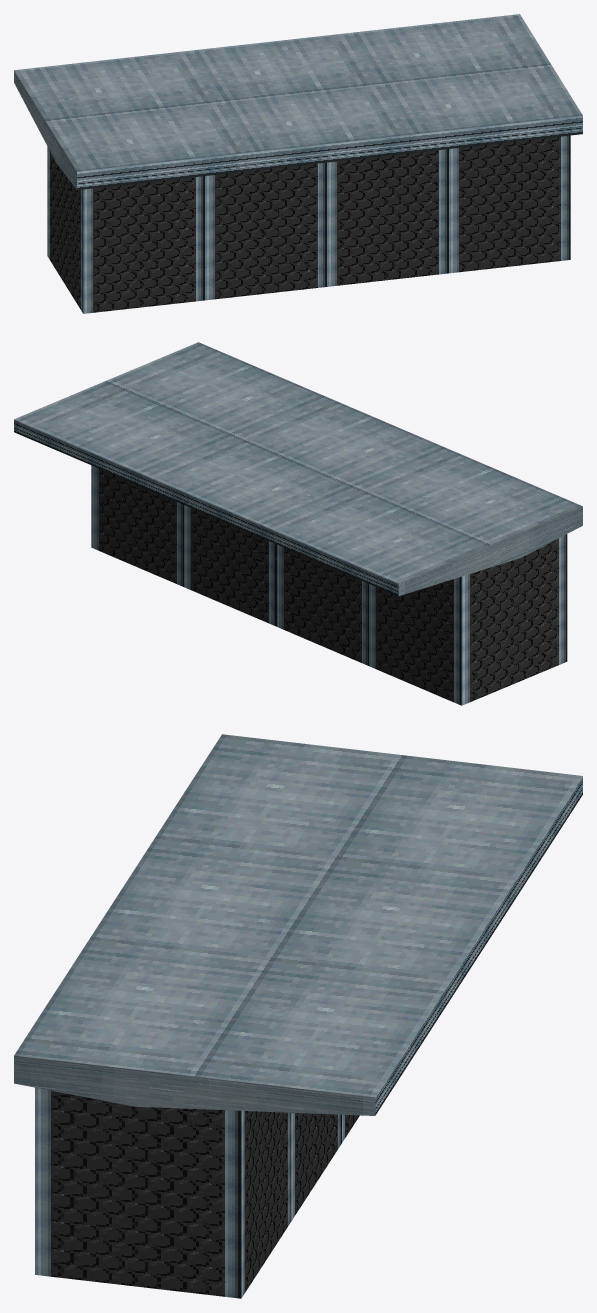
File: primary_061.glb
3 renders of one model, top to bottom at view 1: azimuth 30°, elevation 25°; view 2: azimuth 150°, elevation 25°; view 3: azimuth 270°, elevation 25°, orthographic. The views are drawn at different scales.
Visible parts, largest first — view 1: Object; view 2: Object; view 3: Object.
Boxes of the visible parts, left/top/right/bottom form: Object: left=14, top=14, right=582, bottom=313; Object: left=14, top=342, right=582, bottom=705; Object: left=14, top=734, right=582, bottom=1298.
Size of the model in its own units: 3.56 by 1.02 by 2.36.
Materials: 3 (3 with a texture image).
